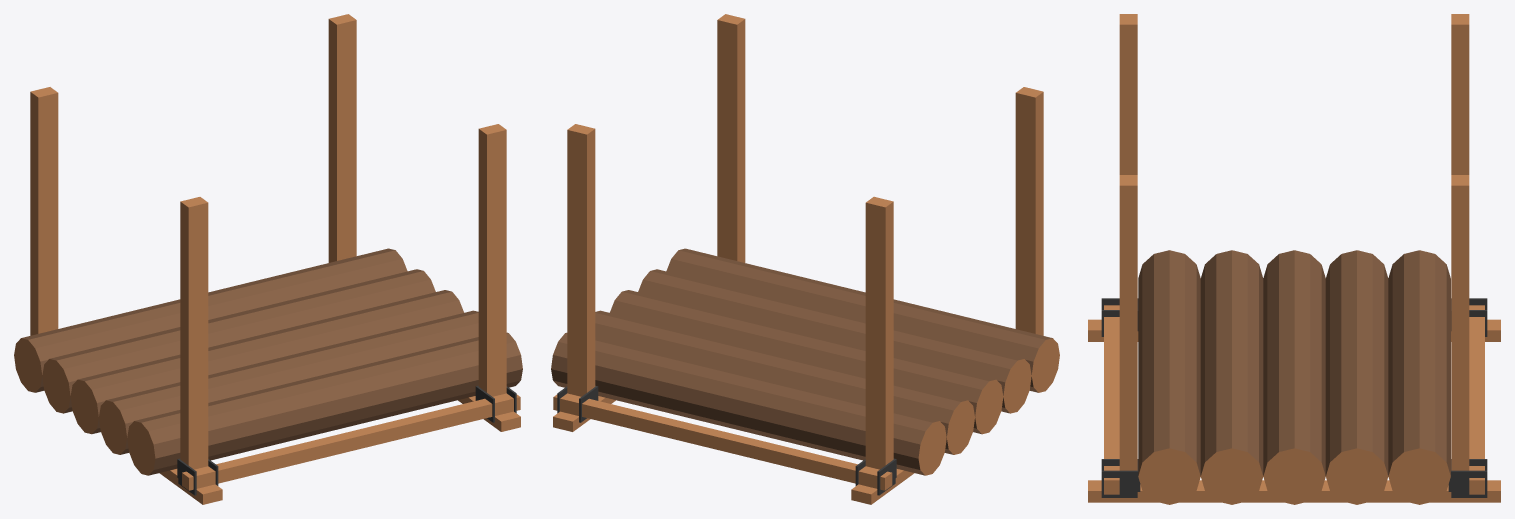
The model's file is WoodenStorageRack.fbx.
3 renders of one model, left to right at view 1: azimuth 30°, elevation 25°; view 2: azimuth 150°, elevation 25°; view 3: azimuth 270°, elevation 25°, orthographic. The views are drawn at different scales.
Visible parts, largest first — view 1: Cylinder.005, Cube.083; view 2: Cylinder.005, Cube.083; view 3: Cylinder.005, Cube.083.
Part boxes in pixels (<box>): Cylinder.005: <box>14,248,522,475</box>; Cube.083: <box>30,14,520,504</box>; Cylinder.005: <box>551,248,1059,475</box>; Cube.083: <box>553,14,1043,504</box>; Cylinder.005: <box>1138,250,1450,504</box>; Cube.083: <box>1088,14,1500,502</box>.
Size of the model in its own units: 1500 by 1120 by 1321.
